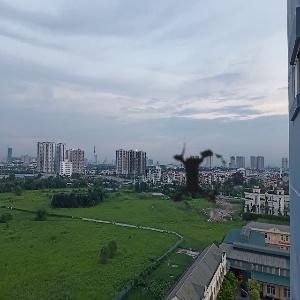drone: (139, 119, 262, 242)
